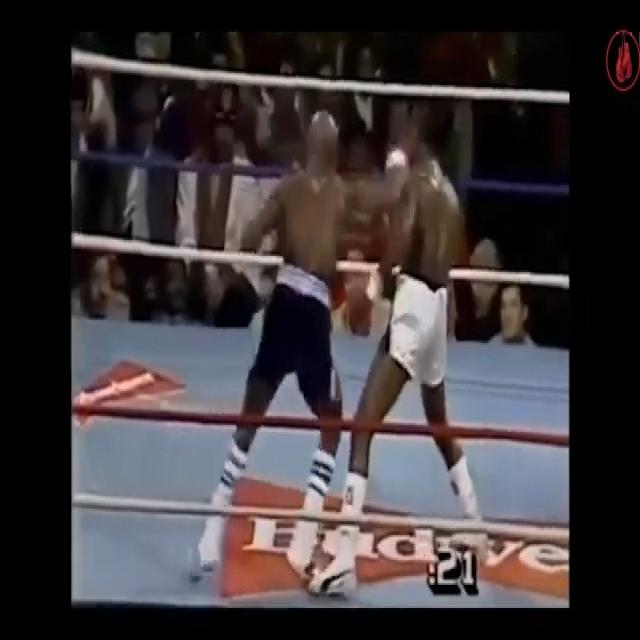Jab: (306, 127, 432, 267)
